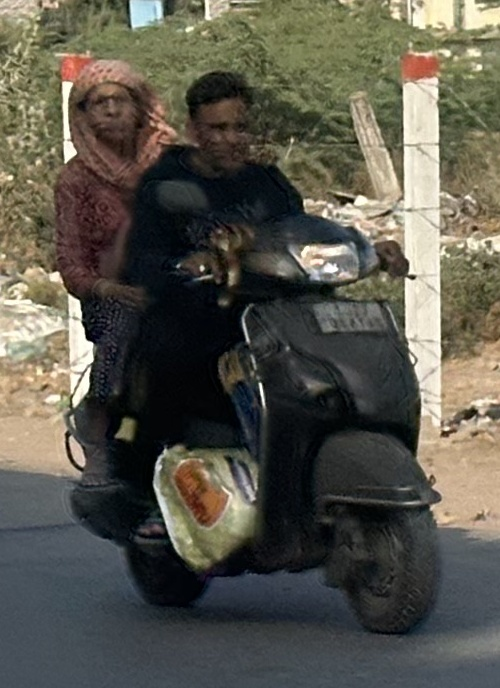BikeWithRider: (45, 52, 450, 641)
NoHelmet: (181, 63, 264, 172), (70, 53, 148, 157)
